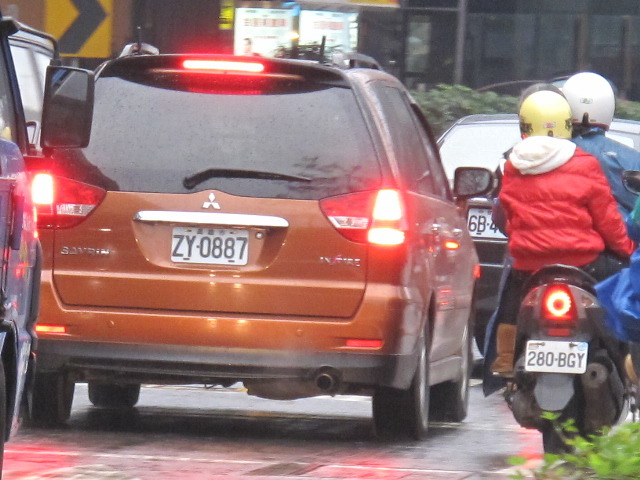plate: (170, 223, 251, 268), (525, 337, 591, 377)
